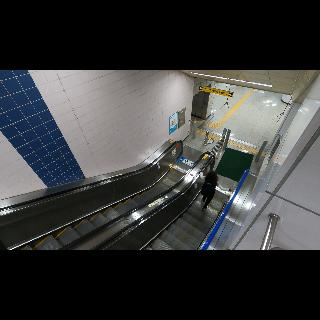normal: (196, 168, 234, 212)
